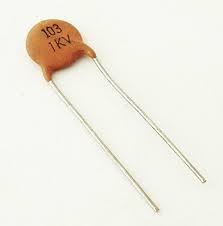ceramic capacitor: (5, 10, 129, 124)
